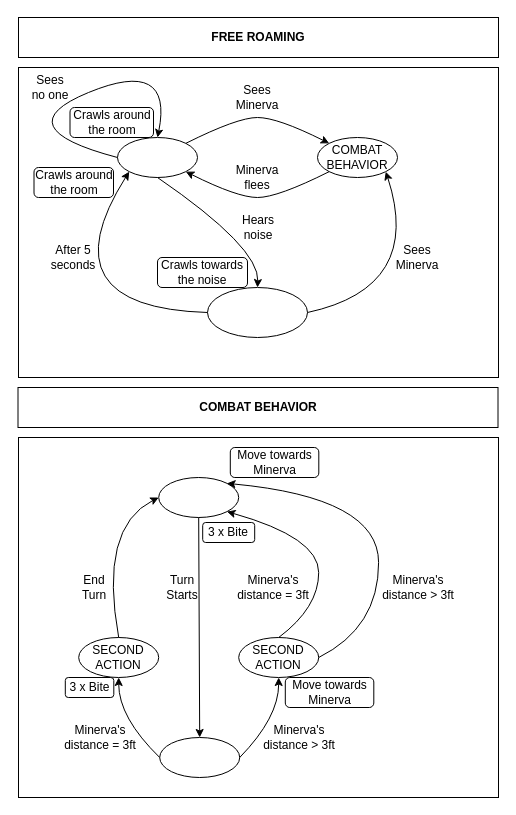
Some shapes in this 516 by 815 pixel diagram are drawn without their labels. Each missing label, with the box of its shape:
AGGRESSIVE: (206, 286, 308, 338)
FIRST ACTION: (159, 736, 240, 778)
IDLE: (116, 136, 198, 178)
WAIT TURN: (158, 476, 239, 518)
